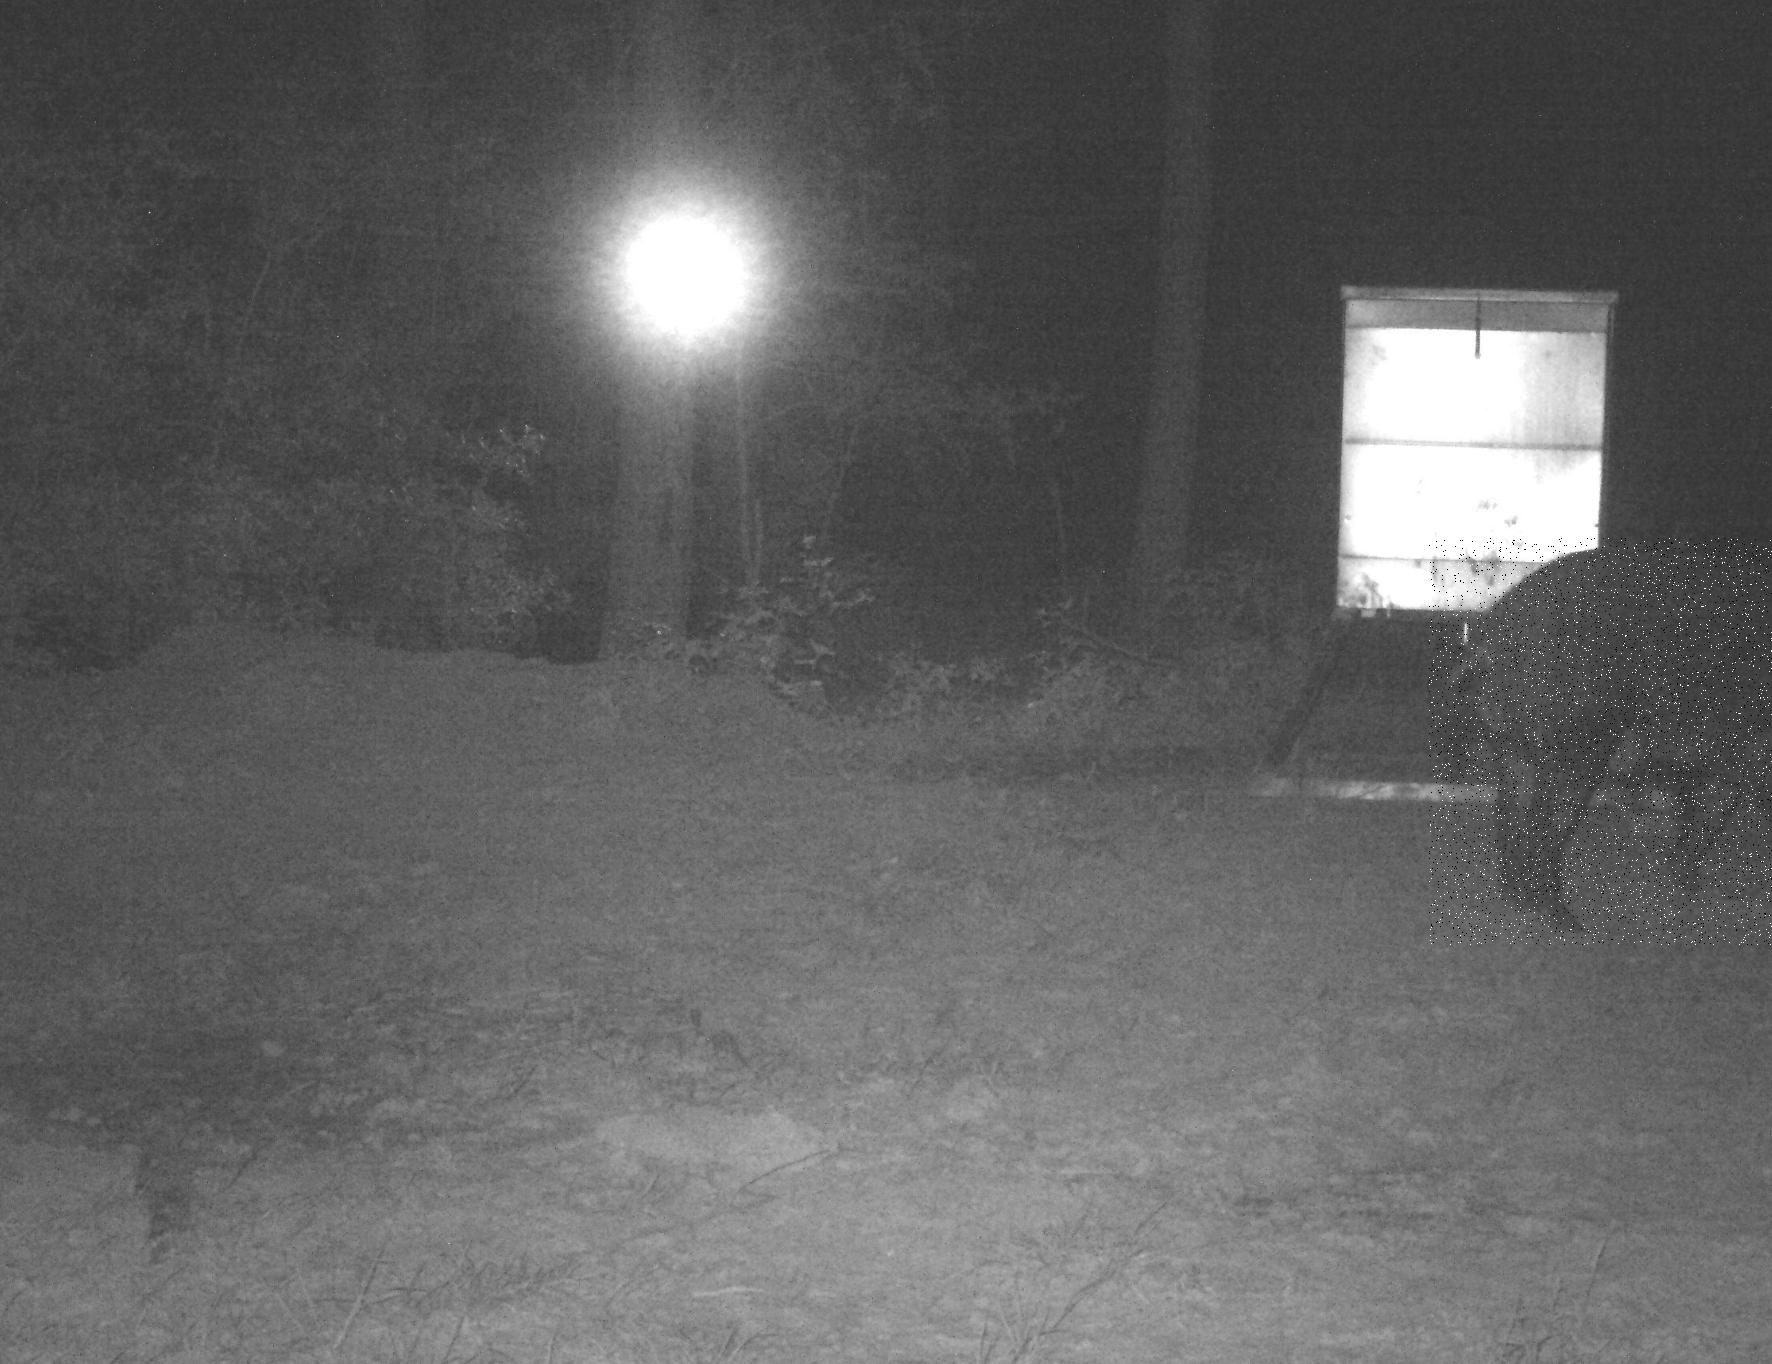Hog: (1430, 537, 1772, 946)
